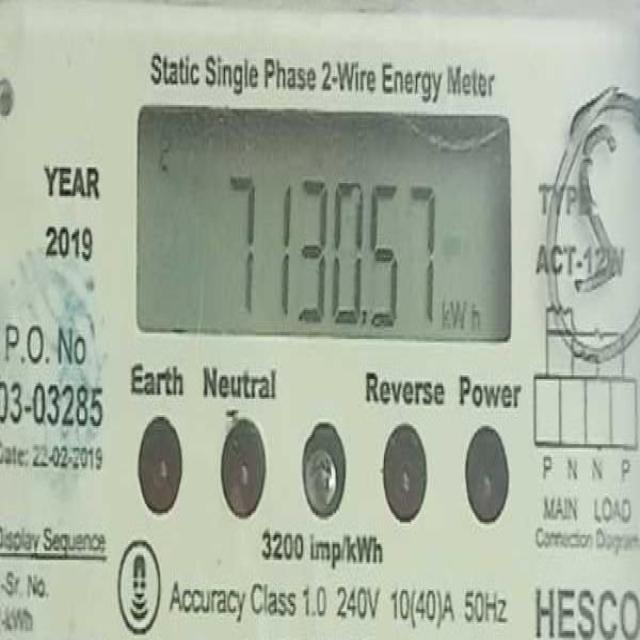0: (333, 178, 362, 324)
1: (270, 175, 294, 321)
3: (299, 173, 329, 323)
5: (369, 176, 403, 330)
7: (228, 151, 261, 319), (407, 180, 444, 326)
Digital meter: (139, 113, 510, 341)
point: (359, 300, 374, 330)
